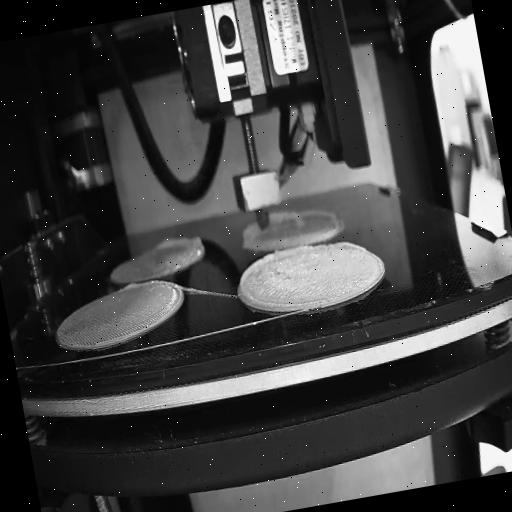over_extrusion: (234, 244, 325, 320), (152, 228, 208, 257), (330, 234, 368, 258), (268, 205, 300, 225), (240, 220, 263, 246), (122, 276, 138, 292)
